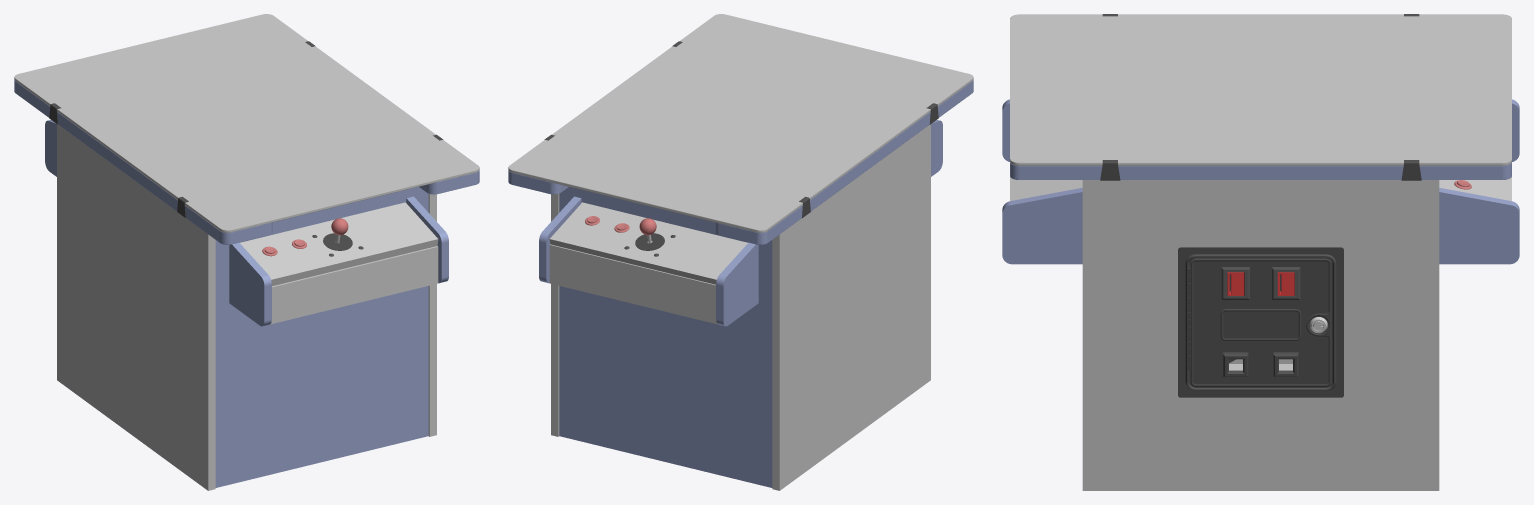
The model's file is ArcadeMachine1.fbx.
3 renders of one model, left to right at view 1: azimuth 30°, elevation 25°; view 2: azimuth 150°, elevation 25°; view 3: azimuth 270°, elevation 25°, orthographic. The views are drawn at different scales.
Parts seen in each view (by area): view 1: Mặt_Ki__n, Mặt_Tr_i_Kh_ng_Thu_Ti__n, Mặt_Chơii_001, B_n_Chơi_Mặt_Tr_n_001, B_n_Chơi_-_Mặt_Trước_001, Khung_M_n, B_n_Chơi_Mặt_Tr_i_001, Mật_Phải_Thu_Ti__n, B_n_Chơi_Mặt_Phải_001, B_n_Chơi_Mặt_Phải_000; view 2: Mặt_Ki__n, Mặt_Tr_i_Kh_ng_Thu_Ti__n, Mặt_Chơi_000, B_n_Chơi_Mặt_Tr_n_000, B_n_Chơi_-_Mặt_Trước_000, Khung_M_n, B_n_Chơi_Mặt_Phải_000, Mật_Phải_Thu_Ti__n, B_n_Chơi_Mặt_Tr_i_000, B_n_Chơi_Mặt_Tr_i_001; view 3: Mật_Phải_Thu_Ti__n, Mặt_Ki__n, Cửa_Ti__n, Khung_Cửa_Ti__n, Khung_M_n, B_n_Chơi_Mặt_Tr_i_000, B_n_Chơi_Mặt_Phải_001, B_n_Chơi_Mặt_Tr_n_001, B_n_Chơi_Mặt_Tr_n_000.
Boxes of the visible parts, <box> form: Mặt_Ki__n: <box>14,14,479,232</box>; Mặt_Tr_i_Kh_ng_Thu_Ti__n: <box>57,124,215,490</box>; Mặt_Chơii_001: <box>215,187,428,487</box>; B_n_Chơi_Mặt_Tr_n_001: <box>240,202,438,286</box>; B_n_Chơi_-_Mặt_Trước_001: <box>270,246,438,324</box>; Khung_M_n: <box>14,80,479,244</box>; B_n_Chơi_Mặt_Tr_i_001: <box>229,242,271,326</box>; Mật_Phải_Thu_Ti__n: <box>428,194,436,436</box>; B_n_Chơi_Mặt_Phải_001: <box>406,196,448,283</box>; B_n_Chơi_Mặt_Phải_000: <box>45,120,56,176</box>; Mặt_Ki__n: <box>508,14,973,232</box>; Mặt_Tr_i_Kh_ng_Thu_Ti__n: <box>772,124,930,490</box>; Mặt_Chơi_000: <box>559,187,772,487</box>; B_n_Chơi_Mặt_Tr_n_000: <box>549,202,747,284</box>; B_n_Chơi_-_Mặt_Trước_000: <box>549,244,717,324</box>; Khung_M_n: <box>508,80,973,244</box>; B_n_Chơi_Mặt_Phải_000: <box>716,242,758,326</box>; Mật_Phải_Thu_Ti__n: <box>551,194,559,436</box>; B_n_Chơi_Mặt_Tr_i_000: <box>539,196,581,283</box>; B_n_Chơi_Mặt_Tr_i_001: <box>931,120,942,176</box>; Mật_Phải_Thu_Ti__n: <box>1082,180,1439,490</box>; Mặt_Ki__n: <box>1010,14,1511,165</box>; Cửa_Ti__n: <box>1188,258,1332,387</box>; Khung_Cửa_Ti__n: <box>1178,247,1343,397</box>; Khung_M_n: <box>1010,162,1511,179</box>; B_n_Chơi_Mặt_Tr_i_000: <box>1439,188,1519,264</box>; B_n_Chơi_Mặt_Phải_001: <box>1002,188,1082,264</box>; B_n_Chơi_Mặt_Tr_n_001: <box>1010,177,1082,200</box>; B_n_Chơi_Mặt_Tr_n_000: <box>1439,177,1511,200</box>.
Bounding box in the file's own units: 0.702 × 0.7405 × 1.03.
